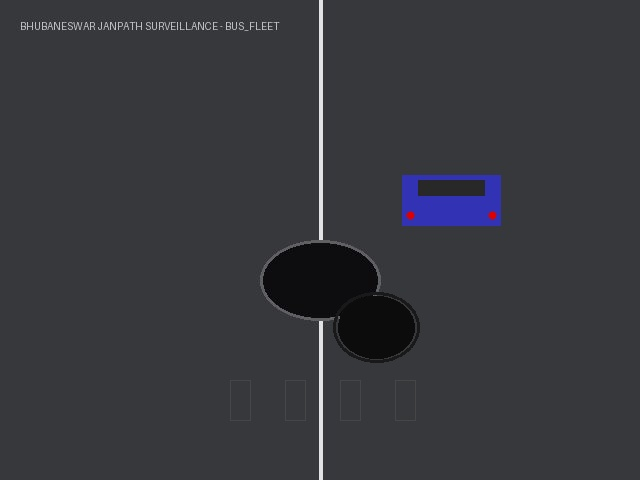no_zebracrossing: (195, 370, 445, 430)
pothole: (338, 296, 414, 358)
vehicle: (402, 175, 501, 225)
